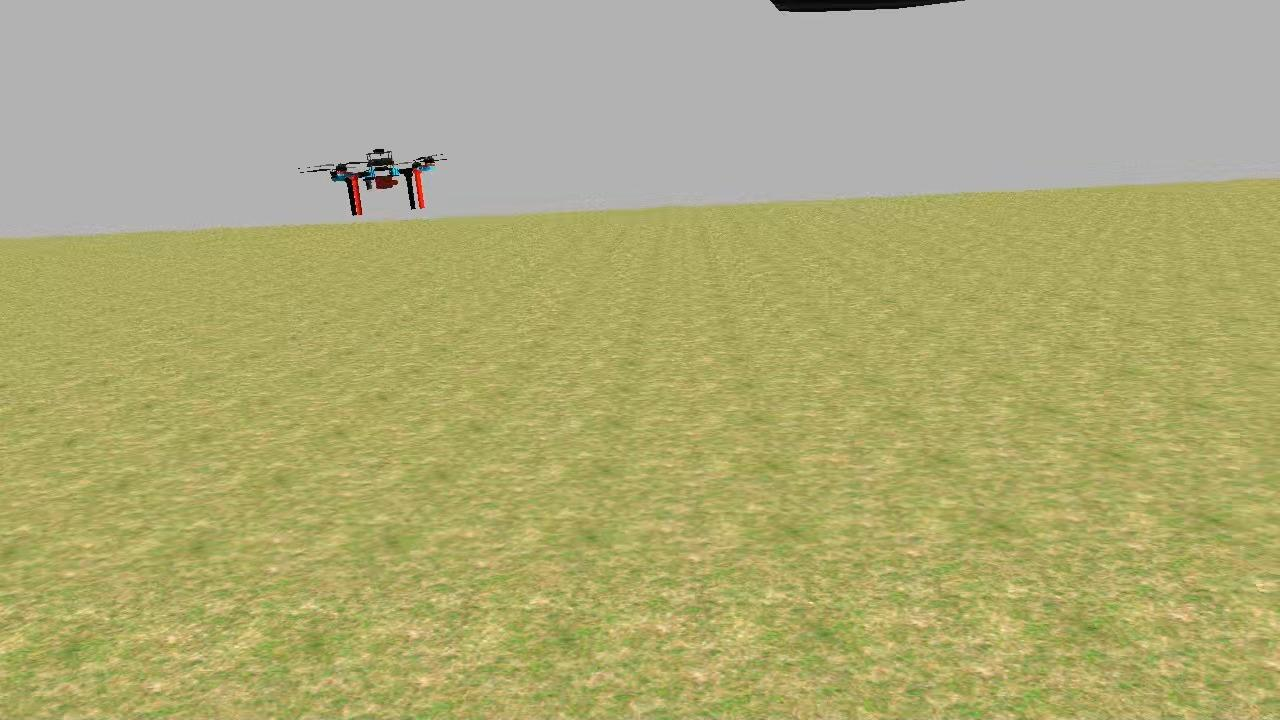UAV: (318, 137, 443, 230)
